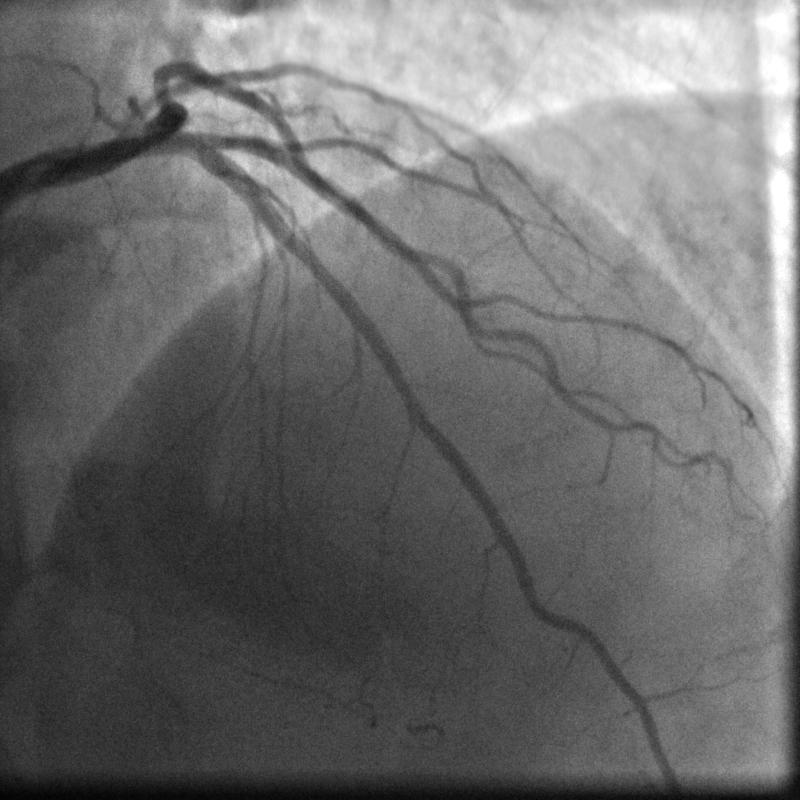Stenosis: (404, 376, 435, 448)
